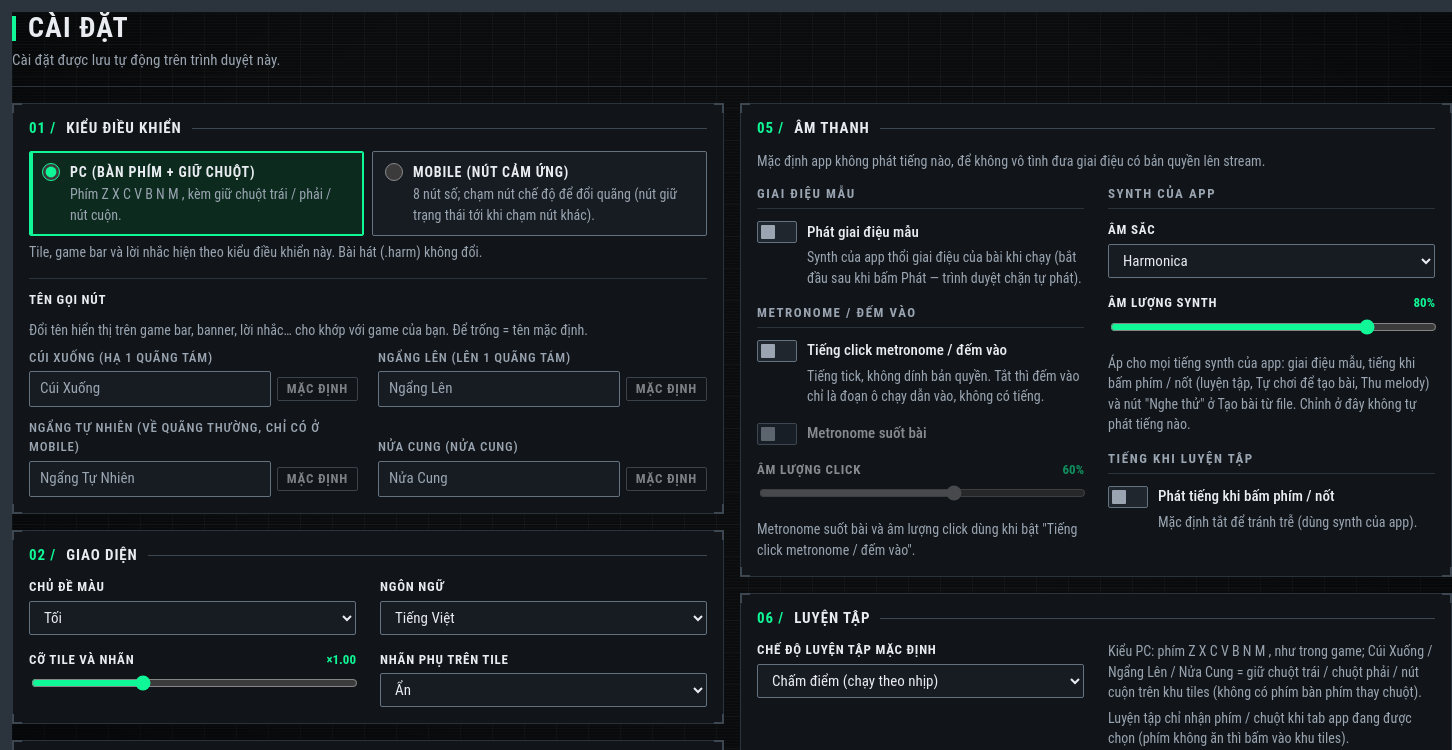
Test: SettingsView — kiểu điều khiển › PC / Mobile radios; mobile shows the semitone behaviour with a not-confirmed note
Expected: the radio button labelled "PC (bàn phím + giữ chuột)" is checked, [42,163,60,181]
Expected: the element "hoạt động kiểu" is not shown
Click the radio button labelled "Mobile (nút cảm ứng)" at (394, 172), box [385,163,403,181]
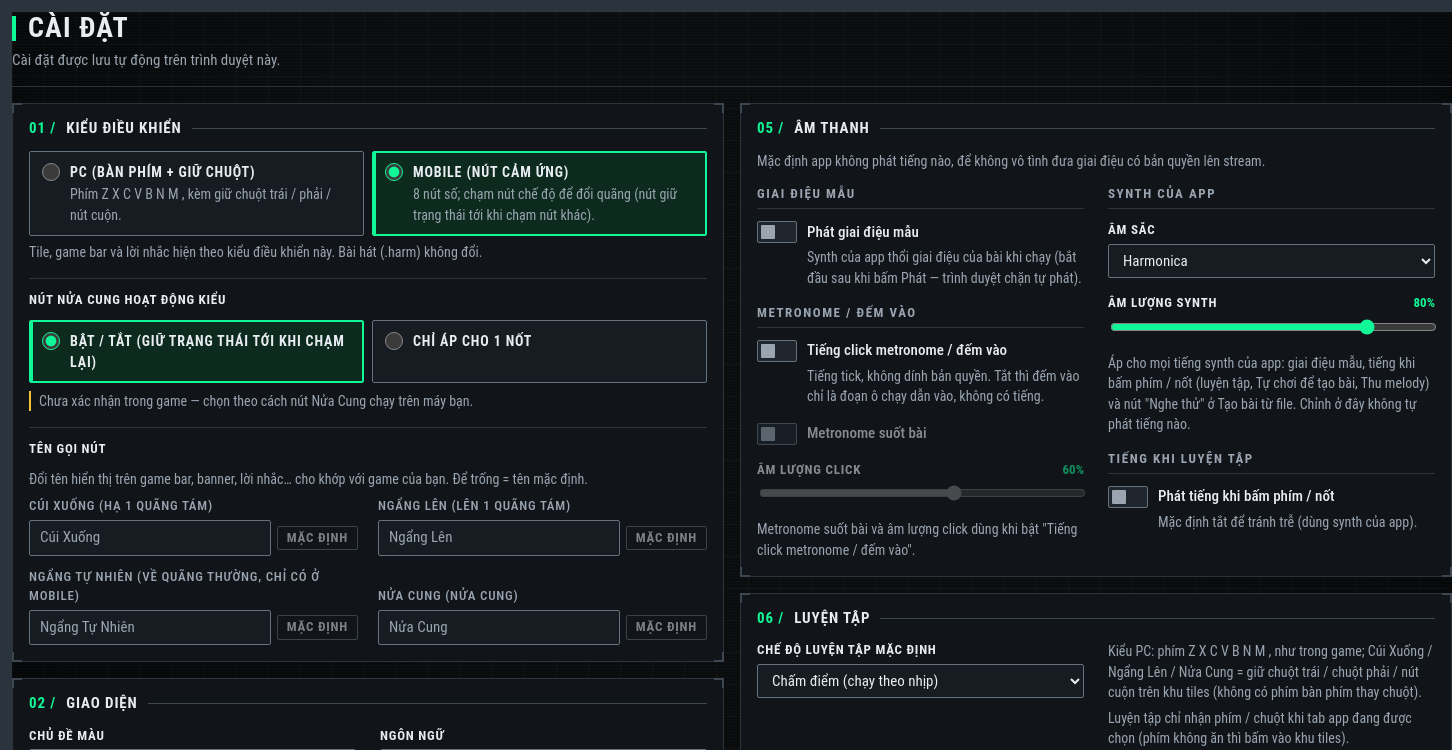
Expected: the radio button labelled "PC (bàn phím + giữ chuột)" is not checked, [42,163,60,181]
Expected: the radio button labelled "Bật / tắt (giữ trạng thái tới khi chạm lại)" is checked, [42,332,60,350]
Click the radio button labelled "Chỉ áp cho 1 nốt" at (394, 341), box [385,332,403,350]
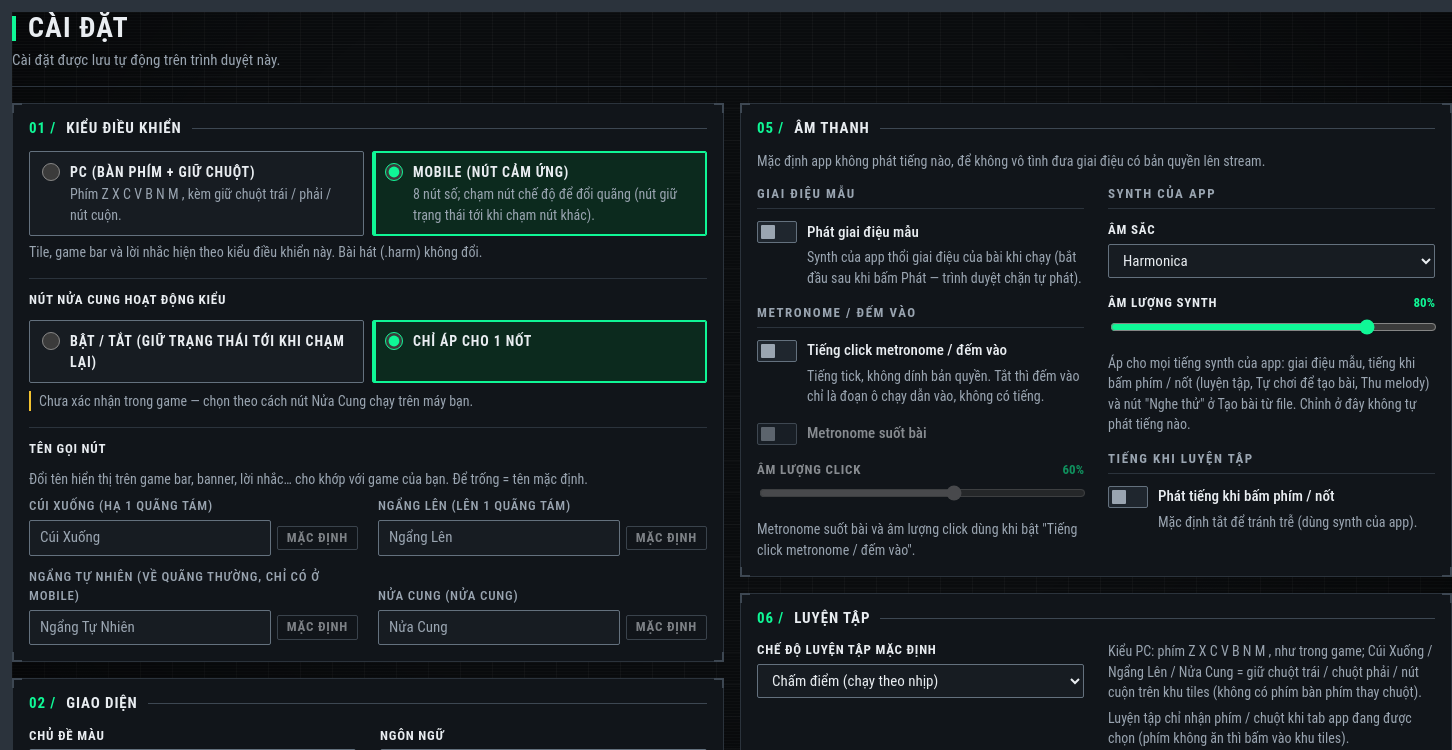
Expected: the radio button labelled "Mobile (nút cảm ứng)" is checked, [385,163,403,181]
Expected: the radio button labelled "Bật / tắt (giữ trạng thái tới khi chạm lại)" is not checked, [42,332,60,350]
Click the radio button labelled "PC (bàn phím + giữ chuột)" at (51, 172), box [42,163,60,181]
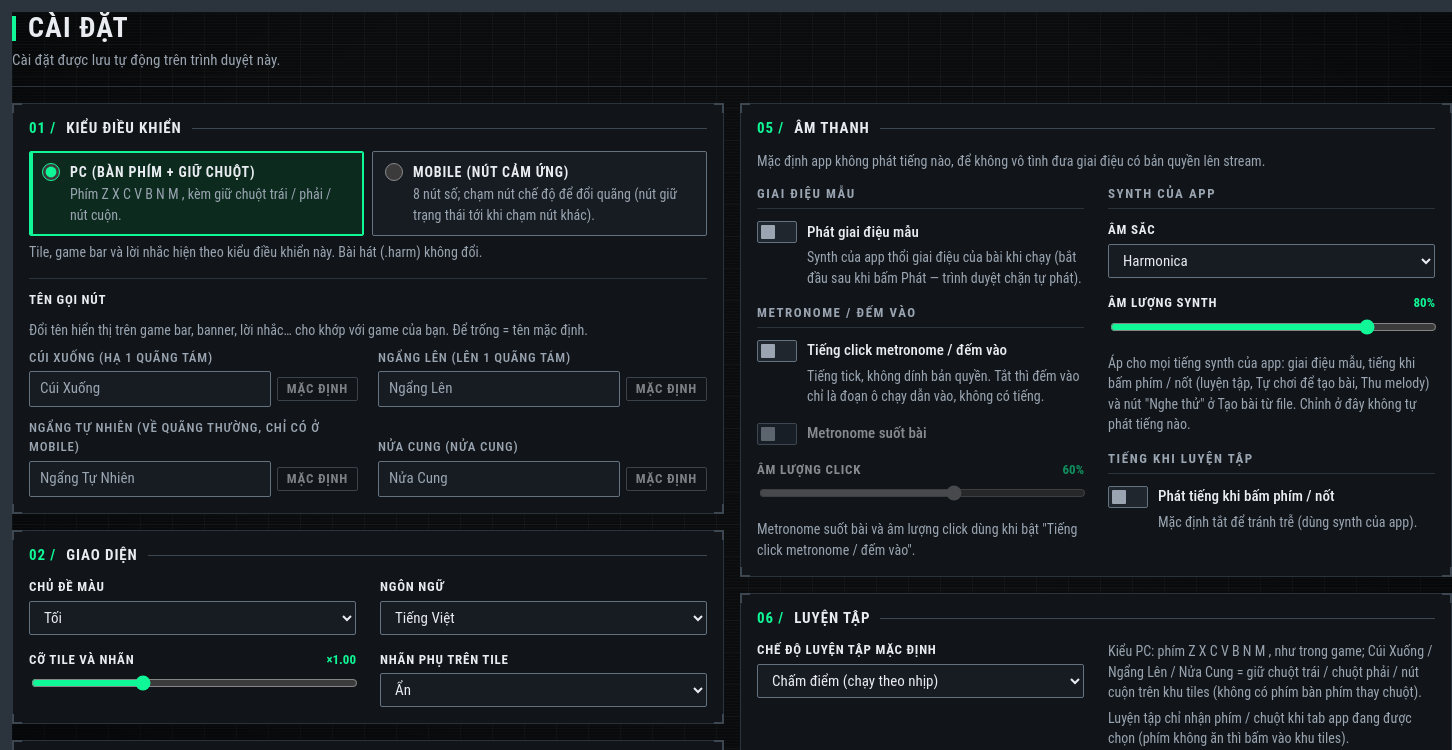
Expected: the text "hoạt động kiểu" is gone
